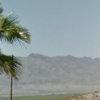Palm tree: (2, 6, 29, 94)
